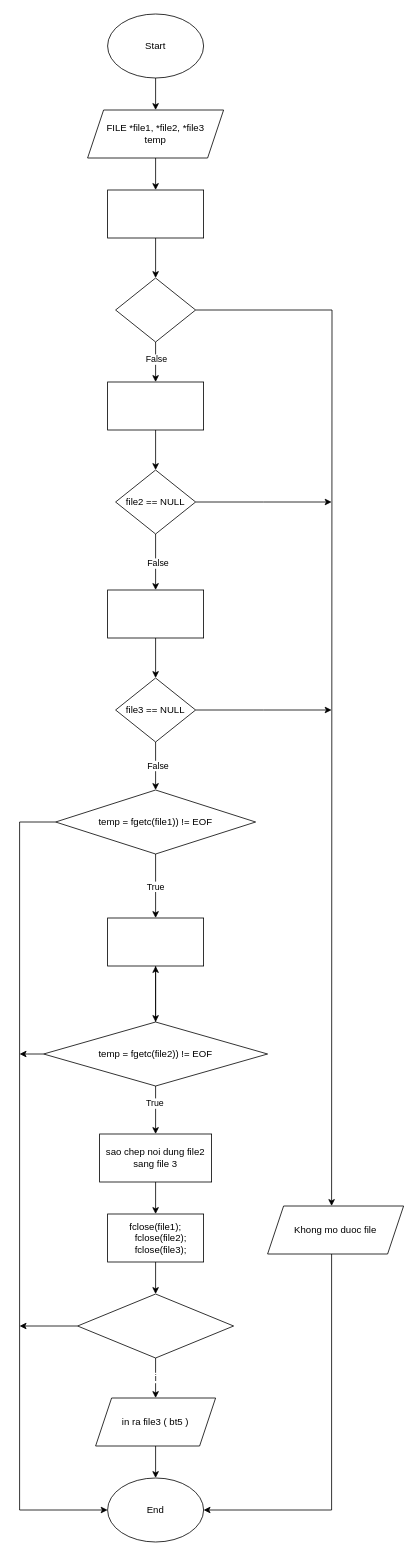
This 418x1556 diagram has some shape labels left out. Each missing label, with the centre of its shape:
"file1 = fopen ( bt1 )" goes at point 155,213.
"file1 == NULL" goes at point 155,309.
"file2 = fopen ( bt3 )" goes at point 155,405.
"file3 = fopen ( bt5 )" goes at point 155,613.
"sao chep noi dung file1 sang file3" goes at point 155,941.
"temp = fgetc(file3)) != EOF" goes at point 155,1325.
